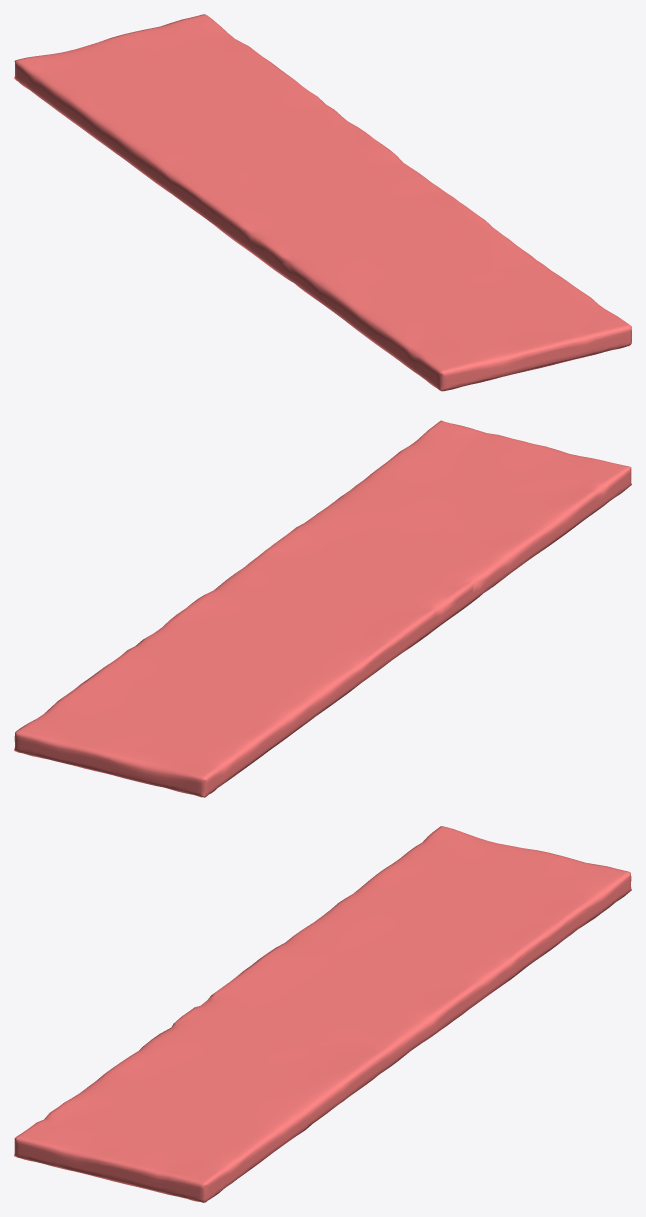
Rendered from arch1-4-2.fbx.
The picture shows the model from 3 angles, top to bottom: view 1: azimuth 30°, elevation 25°; view 2: azimuth 150°, elevation 25°; view 3: azimuth 330°, elevation 25°; orthographic projection.
Visible parts, largest first — view 1: PM3D_Cube3D_1; view 2: PM3D_Cube3D_1; view 3: PM3D_Cube3D_1.
Part boxes in pixels (x1,y1,x2,y2): PM3D_Cube3D_1: (14,14,631,391); PM3D_Cube3D_1: (14,420,631,797); PM3D_Cube3D_1: (14,826,631,1202).
Bounding box in the file's own units: 2 × 0.2004 × 7.72.
